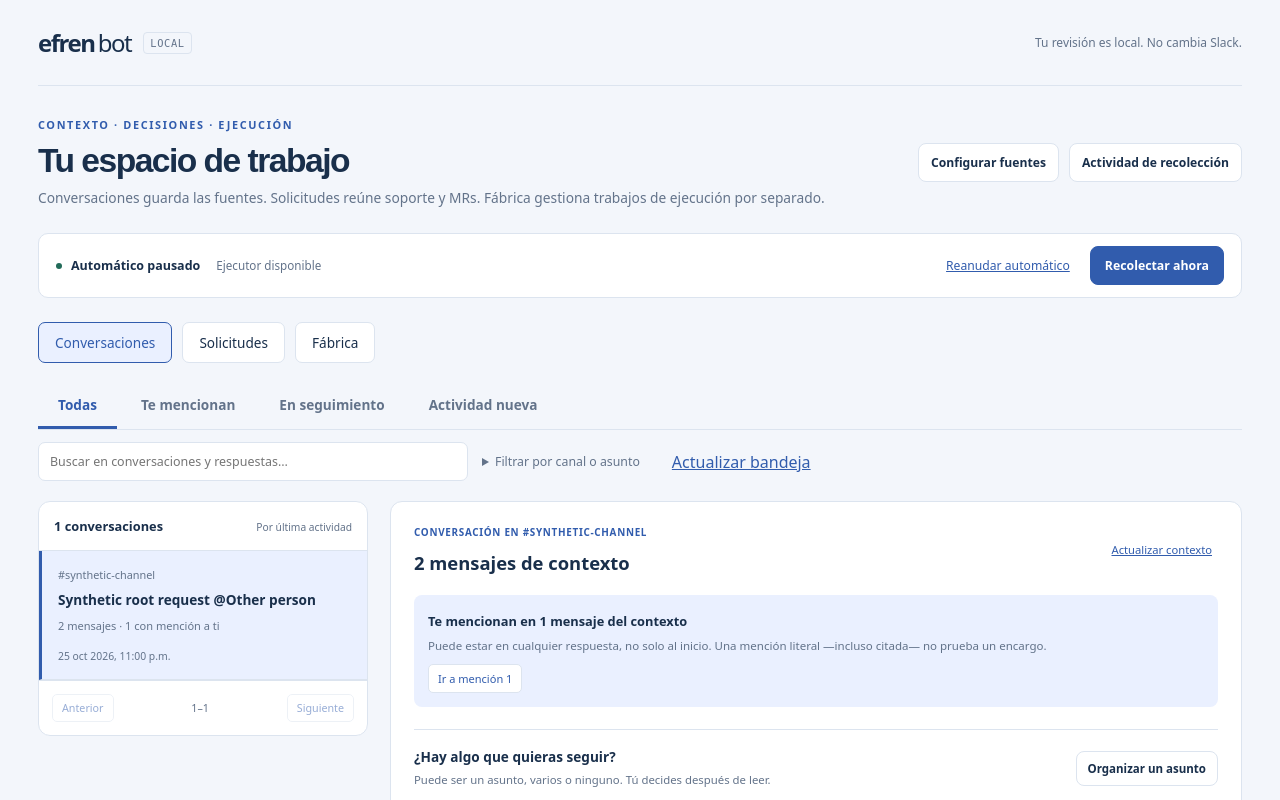
Test: Conversaciones con contexto y seguimiento opcional › no trata el histórico como actividad nueva ni crea seguimiento por abrir contexto
The image size is (1280, 800).
Expected: the button "Organizar un asunto" is shown, x1=1076 y1=751 x2=1218 y2=786
Click the button "Actividad nueva". click: (483,406)
box: x1=409 y1=383 x2=558 y2=429
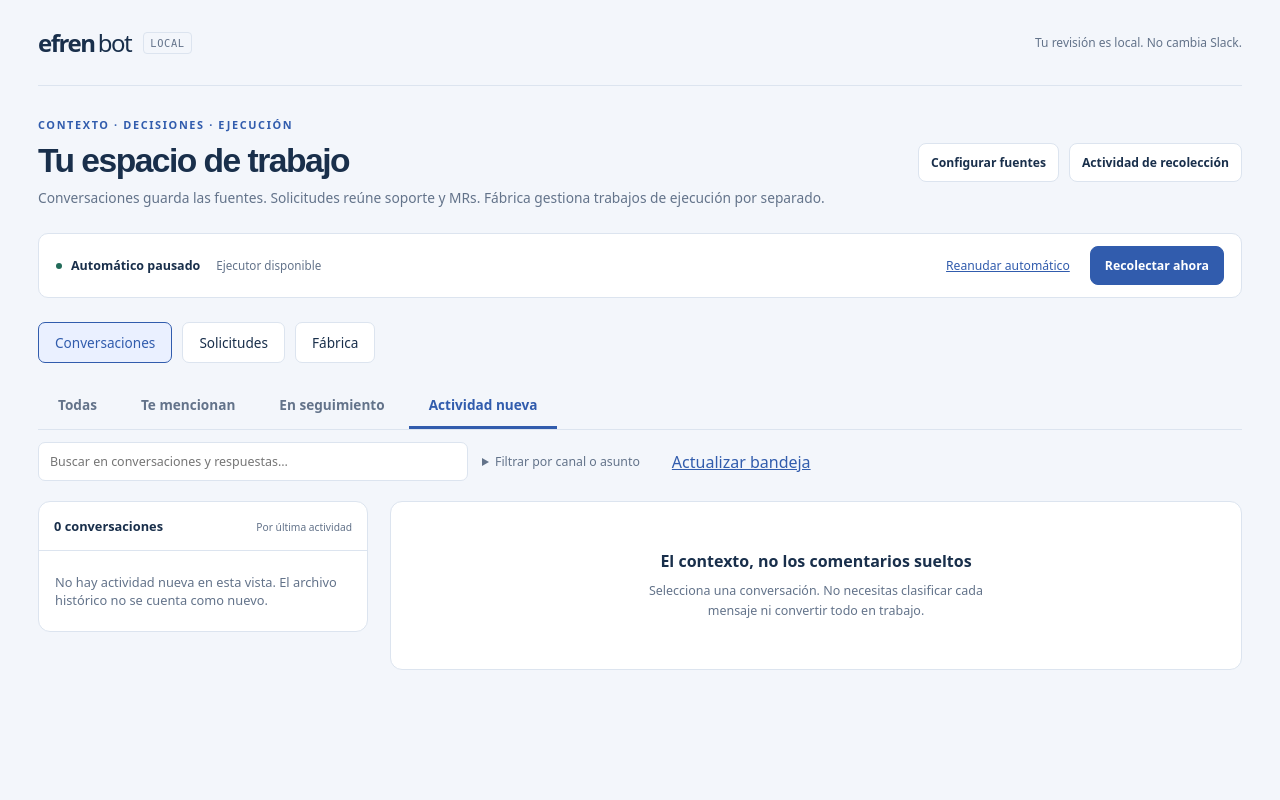
Expected: the text "No hay actividad nueva en esta vista" is shown, x1=55 y1=573 x2=337 y2=609
